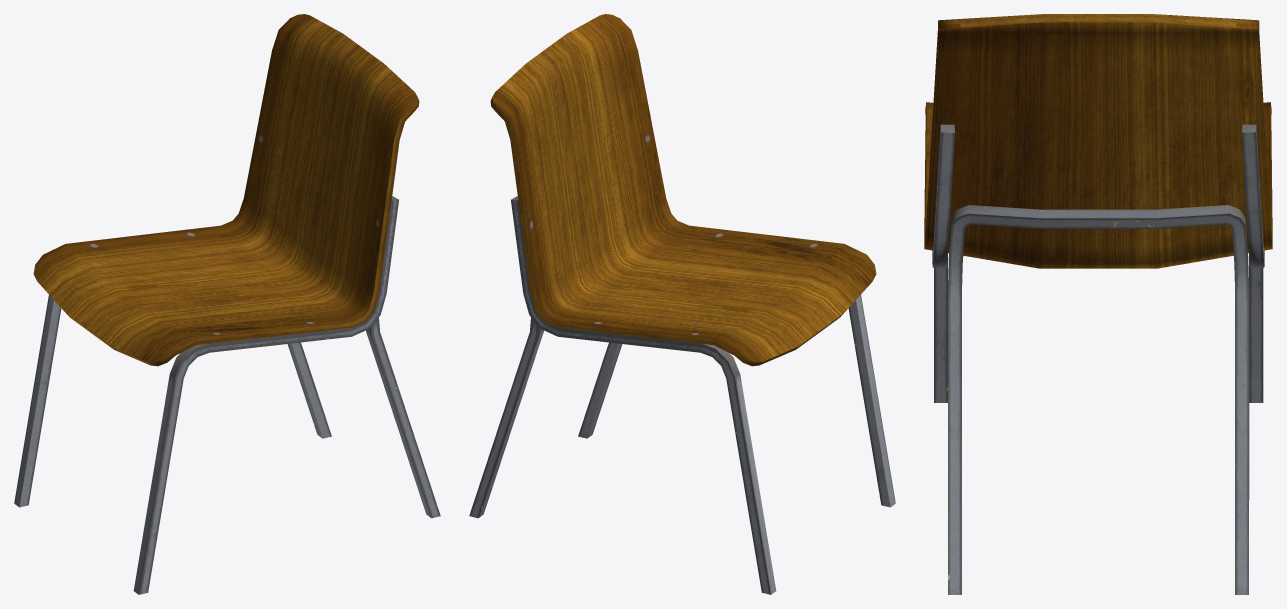
Rendered from chair.glb.
The picture shows the model from 3 angles, left to right: view 1: azimuth 30°, elevation 25°; view 2: azimuth 150°, elevation 25°; view 3: azimuth 270°, elevation 25°; orthographic projection. The views are drawn at different scales.
Parts seen in each view (by area): view 1: defaultMaterial; view 2: defaultMaterial; view 3: defaultMaterial.
Part boxes in pixels (left/top/right/bottom): defaultMaterial: left=14, top=14, right=440, bottom=594; defaultMaterial: left=469, top=14, right=895, bottom=594; defaultMaterial: left=924, top=14, right=1272, bottom=594.
Bounding box in the file's own units: 1.49 × 2 × 1.11.
1 material, 1 textured.
